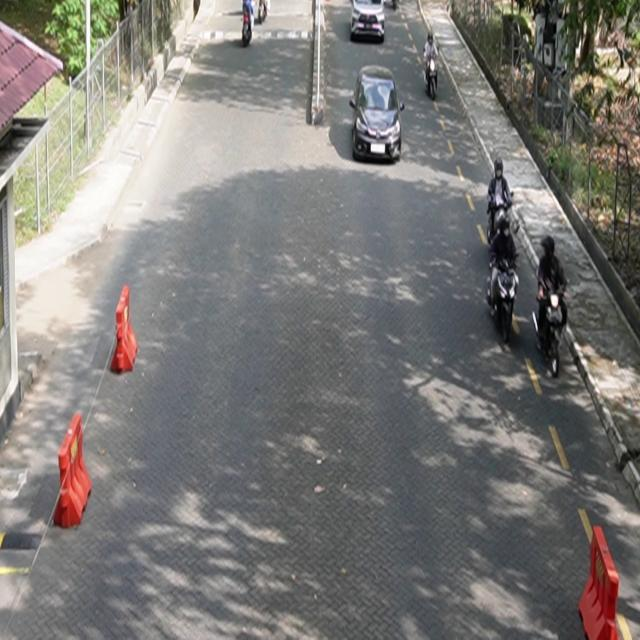car: (350, 65, 406, 163), (351, 1, 386, 43)
